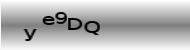9: (52, 11, 68, 25)
D: (66, 17, 83, 31)
Q: (83, 20, 102, 36)
e: (41, 15, 55, 26)
y: (22, 27, 37, 42)
